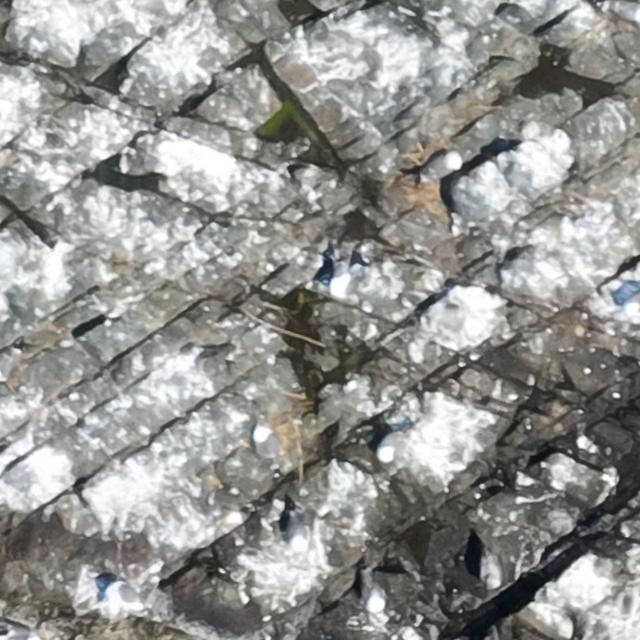umineko: (375, 424, 419, 464), (105, 581, 152, 618), (497, 245, 539, 282), (282, 508, 310, 556), (478, 542, 502, 592), (361, 566, 384, 618), (329, 253, 349, 299), (423, 152, 459, 176), (253, 429, 274, 462), (610, 3, 640, 23), (5, 626, 38, 640)
